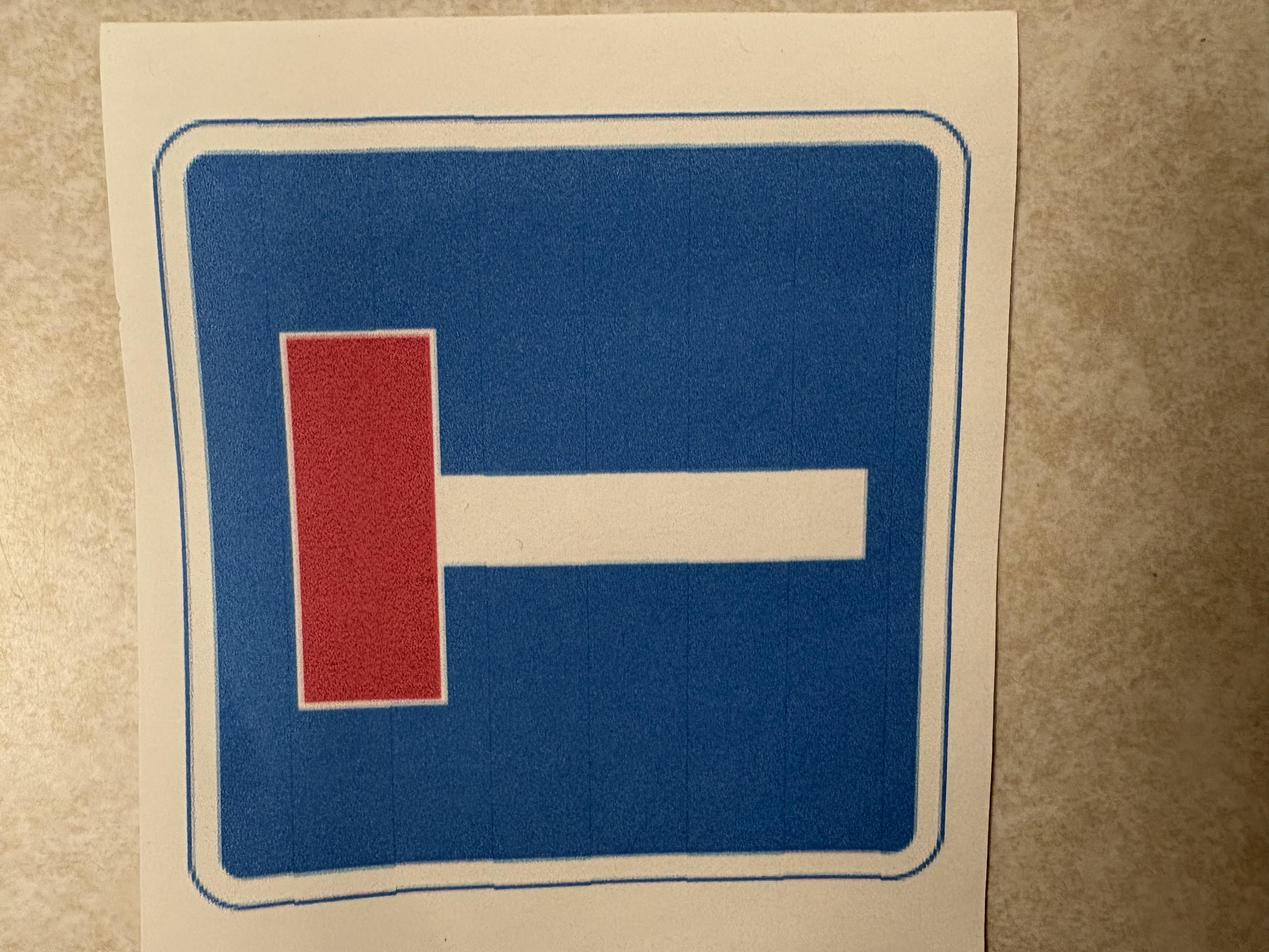Dead End: (98, 22, 1010, 952)
